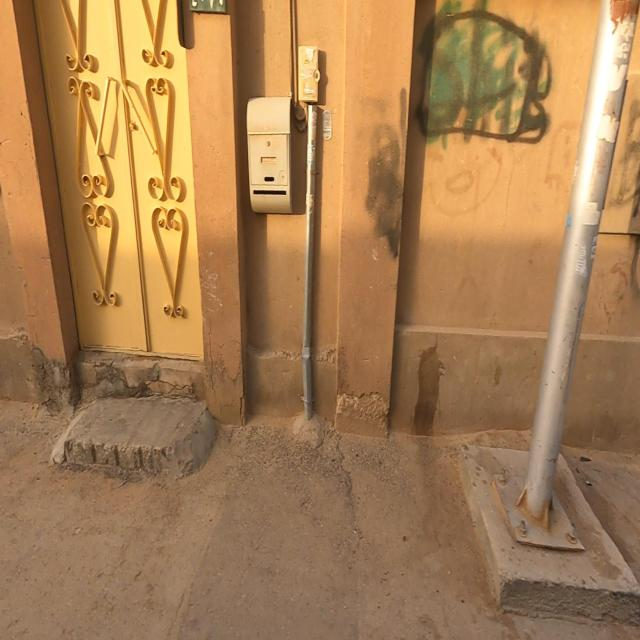Graffiti: (416, 1, 554, 145), (430, 142, 501, 311), (366, 86, 402, 260), (625, 99, 640, 316), (541, 123, 573, 190)
